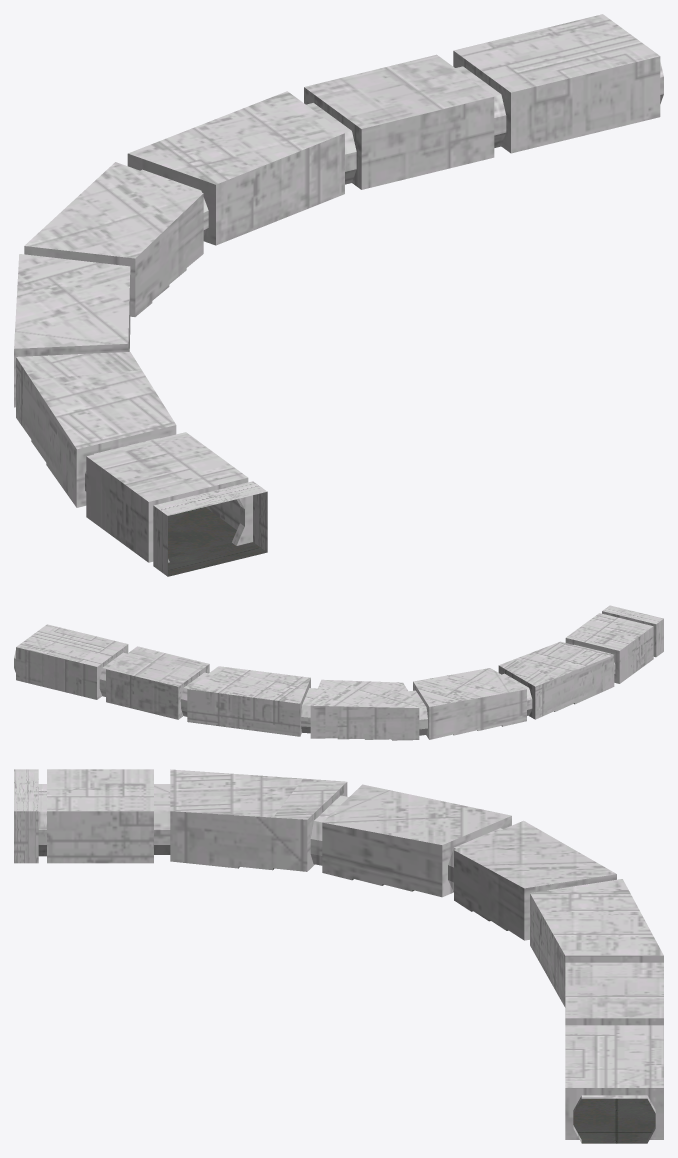
File: thm_spc_star_destroyer_s01_r34_hallway12_mesh_r34.fbx
The picture shows the model from 3 angles, top to bottom: view 1: azimuth 30°, elevation 25°; view 2: azimuth 150°, elevation 25°; view 3: azimuth 270°, elevation 25°; orthographic projection. The views are drawn at different scales.
Visible parts, largest first — view 1: mesh_node; view 2: mesh_node; view 3: mesh_node.
Part boxes in pixels (x1,y1,x2,y2): mesh_node: (14, 14, 663, 576); mesh_node: (14, 605, 663, 740); mesh_node: (14, 769, 663, 1143).
Size of the model in its own units: 49.5 by 5 by 39.5.
Materials: 2 (2 with a texture image).
